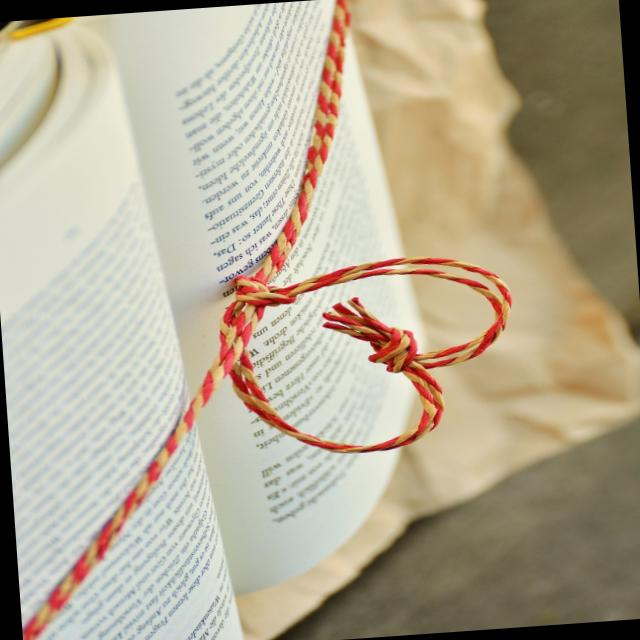notebook: (0, 5, 476, 640)
